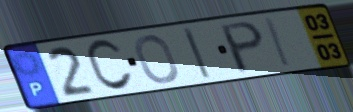2: (45, 44, 97, 99)
C: (84, 37, 136, 94)
I: (180, 25, 215, 82), (264, 16, 295, 70)
O: (133, 33, 181, 86)
P: (218, 19, 267, 76)
